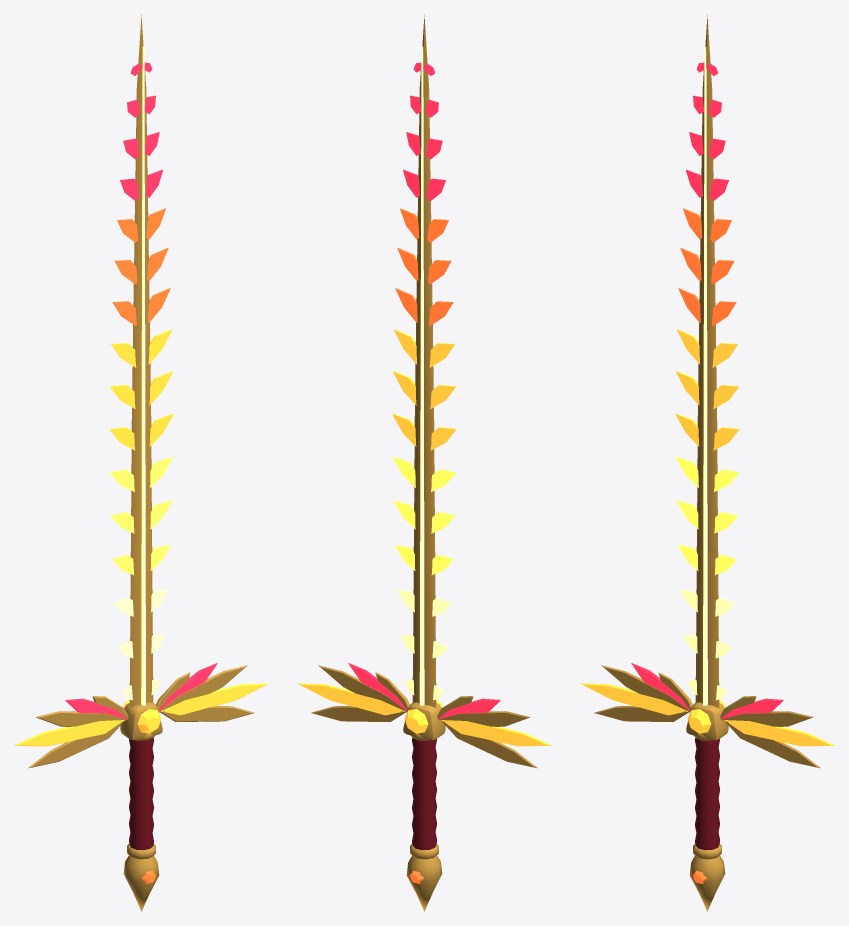
The model's file is phoenix_wing.glb.
3 views of the same model, side by side, from view 1: azimuth 30°, elevation 25°; view 2: azimuth 150°, elevation 25°; view 3: azimuth 330°, elevation 25° (orthographic).
Parts seen in each view (by area): view 1: phoenix_wing; view 2: phoenix_wing; view 3: phoenix_wing.
Boxes of the visible parts, box(x1,y1,x2,y2) form: phoenix_wing: box(14, 14, 268, 911); phoenix_wing: box(297, 14, 551, 911); phoenix_wing: box(580, 14, 834, 911).
Bounding box in the file's own units: 0.4269 × 1.44 × 0.07.
